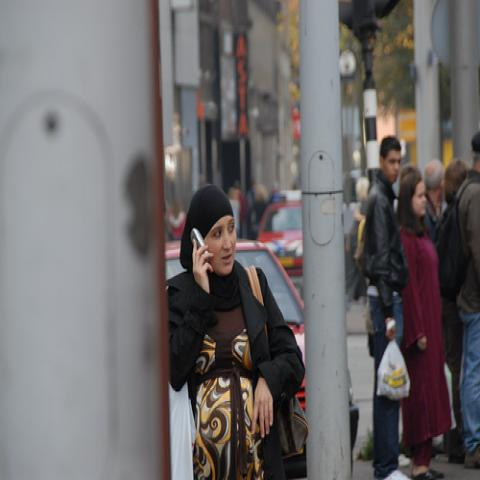car: (164, 238, 360, 478), (254, 192, 306, 307)
